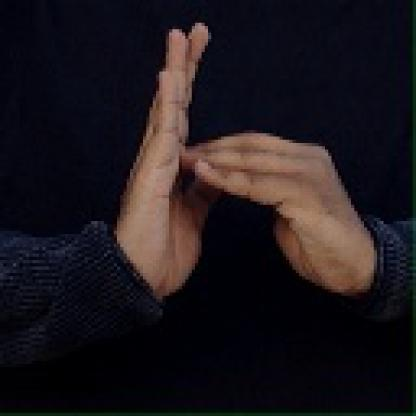Z: (117, 14, 348, 299)
